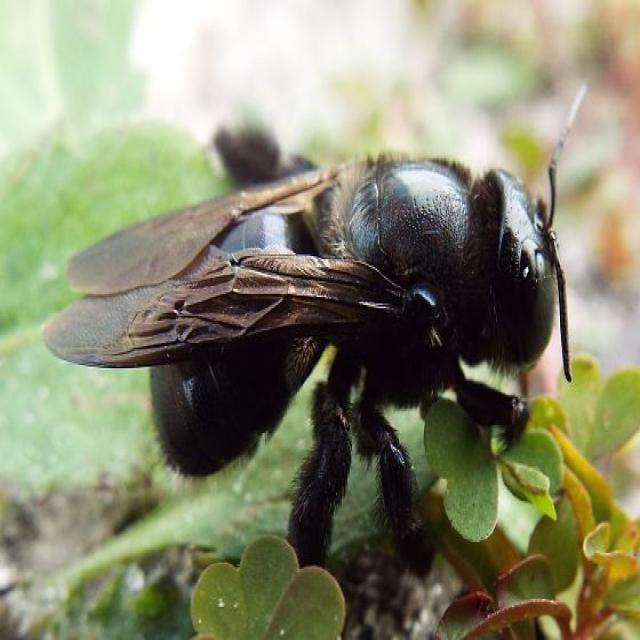Xylocopa: (49, 68, 586, 591)
